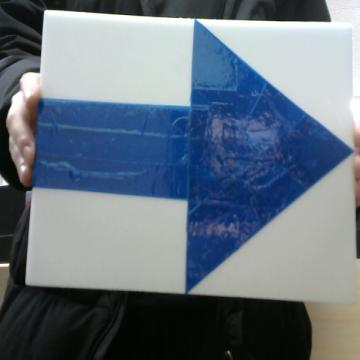blue_right: (34, 20, 352, 292)
